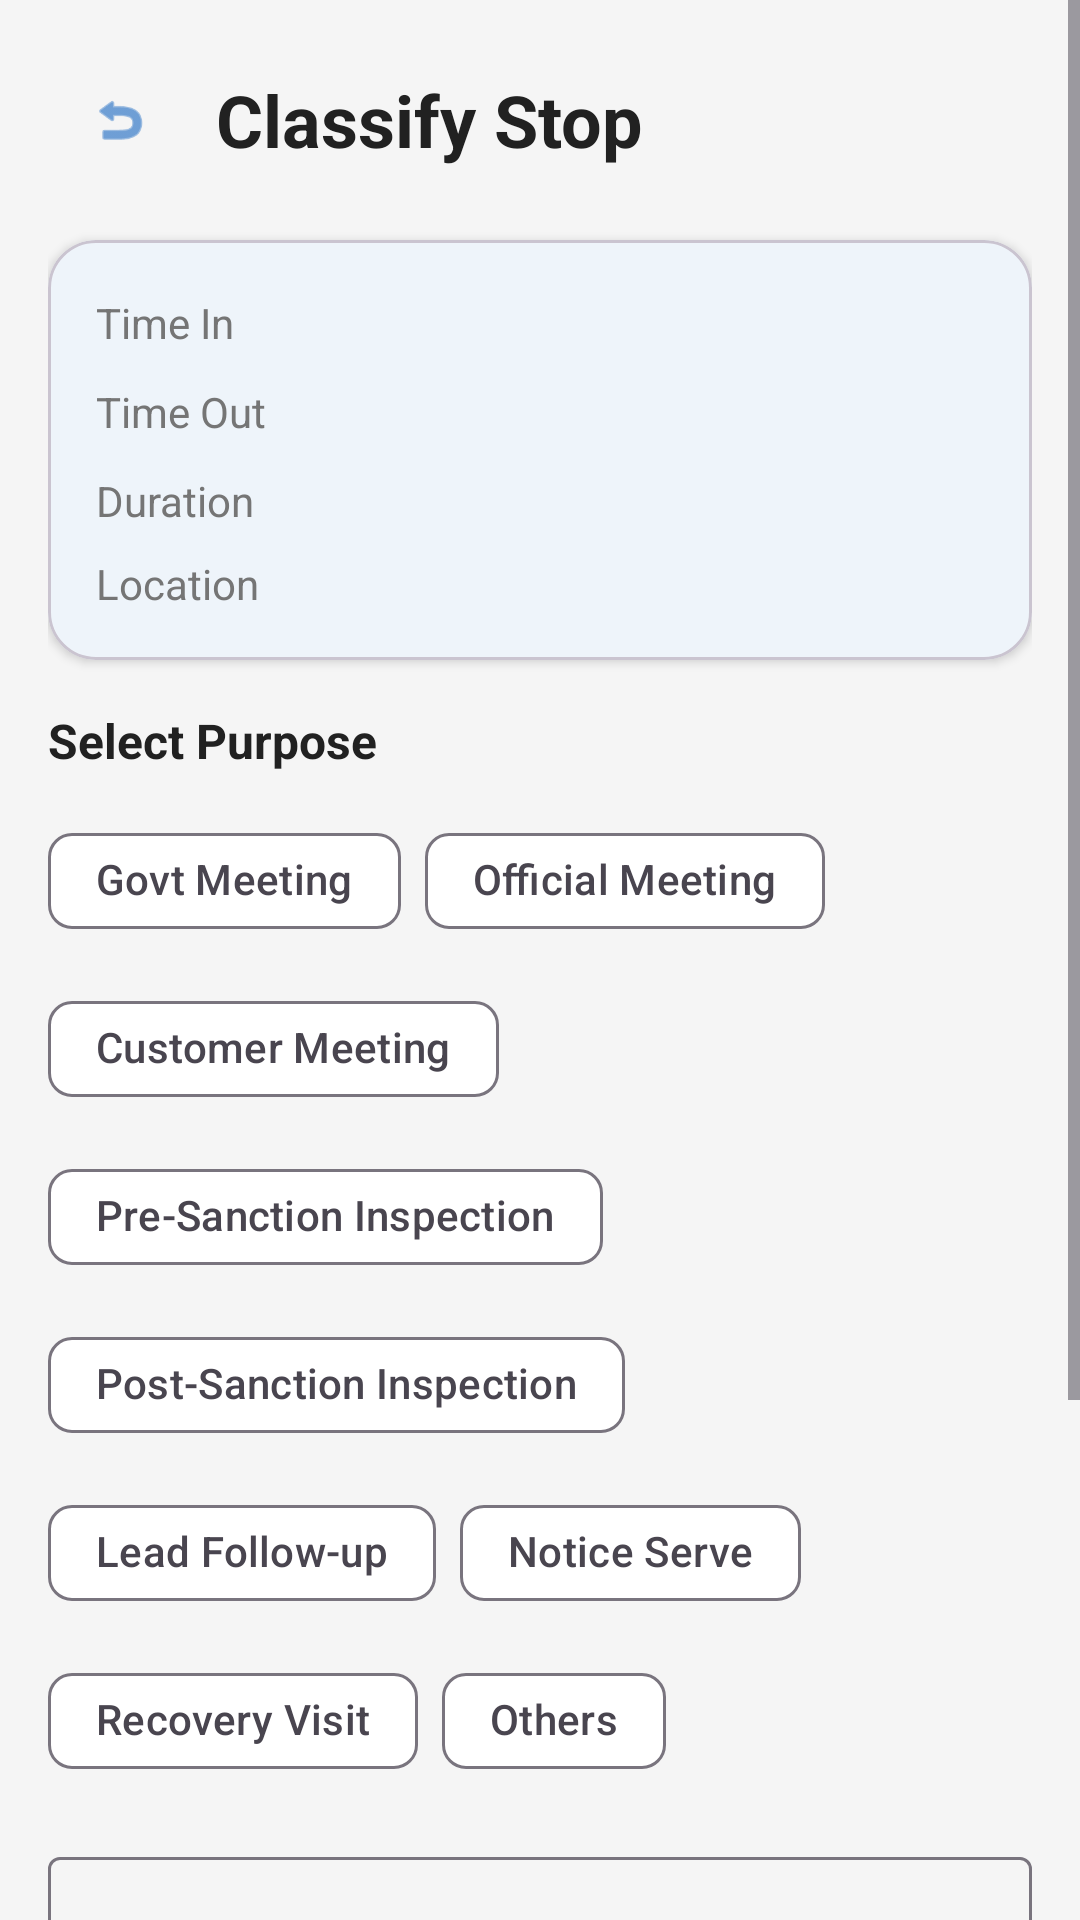

Point at icon controls on the screen. Image size 1080x1920, points as point (x, y).
revert: point (120, 120)
